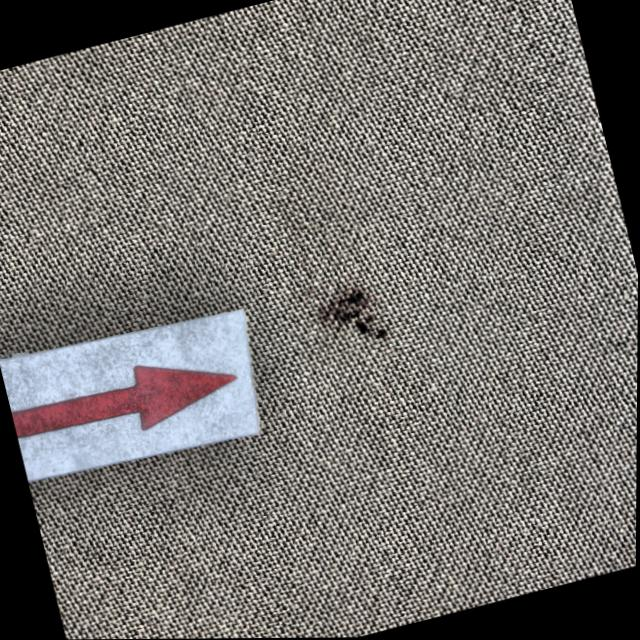Hole: (280, 251, 420, 381)
